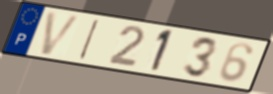1: (148, 28, 176, 73)
2: (105, 25, 146, 68)
3: (183, 36, 221, 79)
6: (217, 42, 255, 84)
I: (76, 18, 102, 61)
V: (38, 10, 84, 57)
